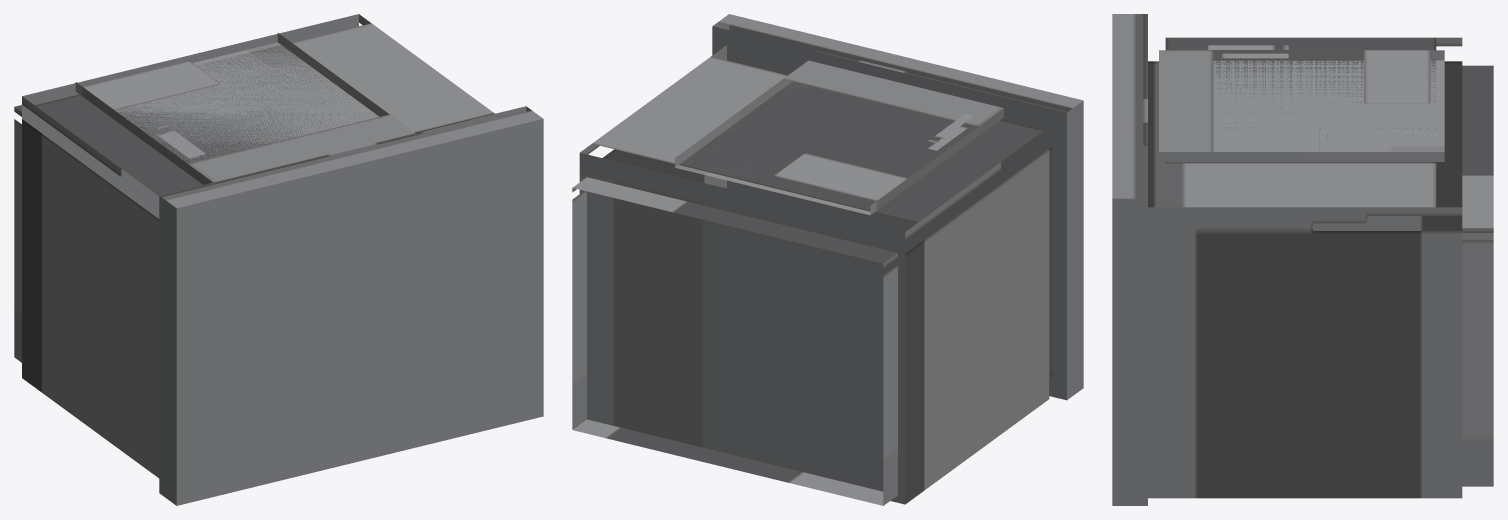
3 renders of one model, left to right at view 1: azimuth 30°, elevation 25°; view 2: azimuth 150°, elevation 25°; view 3: azimuth 270°, elevation 25°, orthographic. The views are drawn at different scales.
Size of the model in its own units: 0.98 by 0.765 by 0.855.
